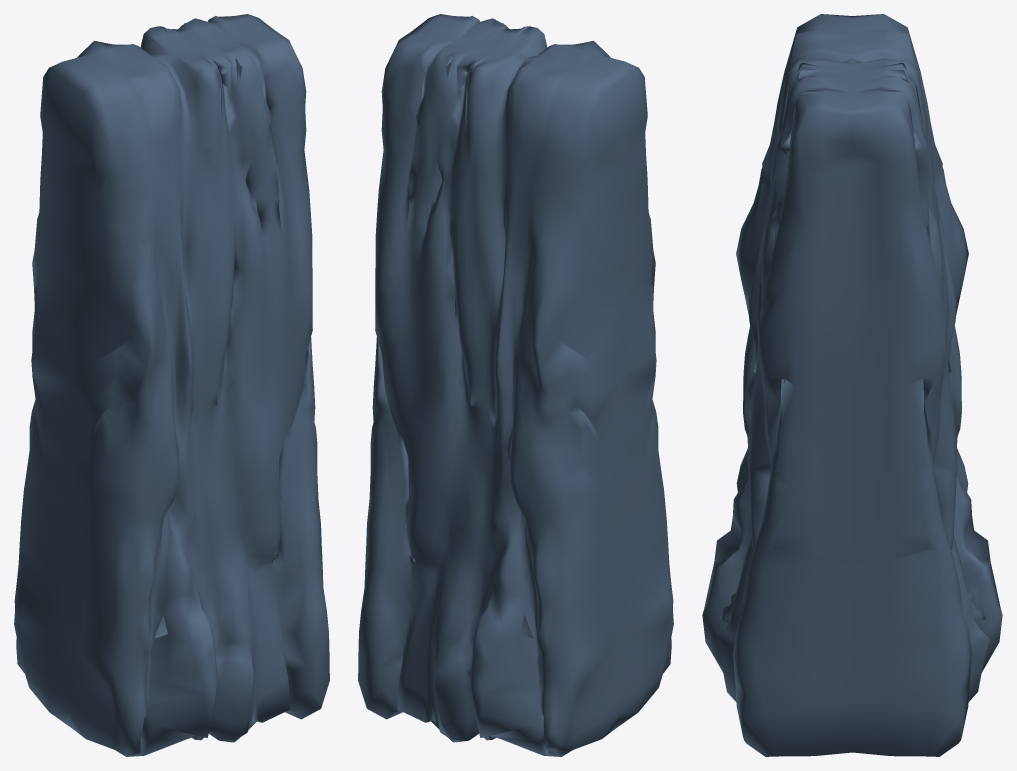
File: Wall.Basic_corner.dae
3 views of the same model, side by side, from view 1: azimuth 30°, elevation 25°; view 2: azimuth 150°, elevation 25°; view 3: azimuth 270°, elevation 25° (orthographic).
Visible parts, largest first — view 1: Plane.004; view 2: Plane.004; view 3: Plane.004.
Part boxes in pixels (x1,y1,x2,y2): Plane.004: [14, 14, 329, 756]; Plane.004: [358, 14, 673, 756]; Plane.004: [702, 14, 1002, 756].
Size of the model in its own units: 6.55 by 7.75 by 18.66.
